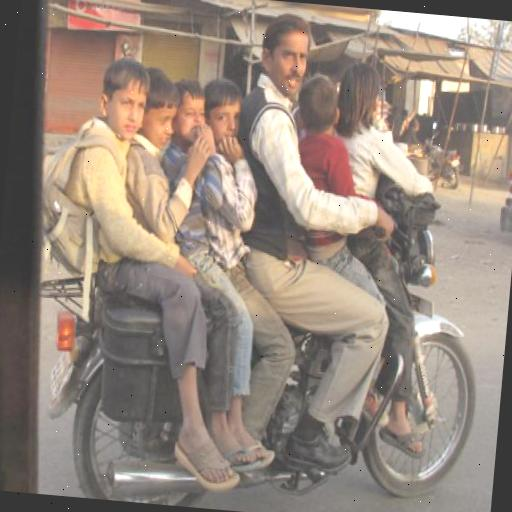no helmet: (252, 8, 328, 143)
triple riding: (77, 0, 389, 507)
